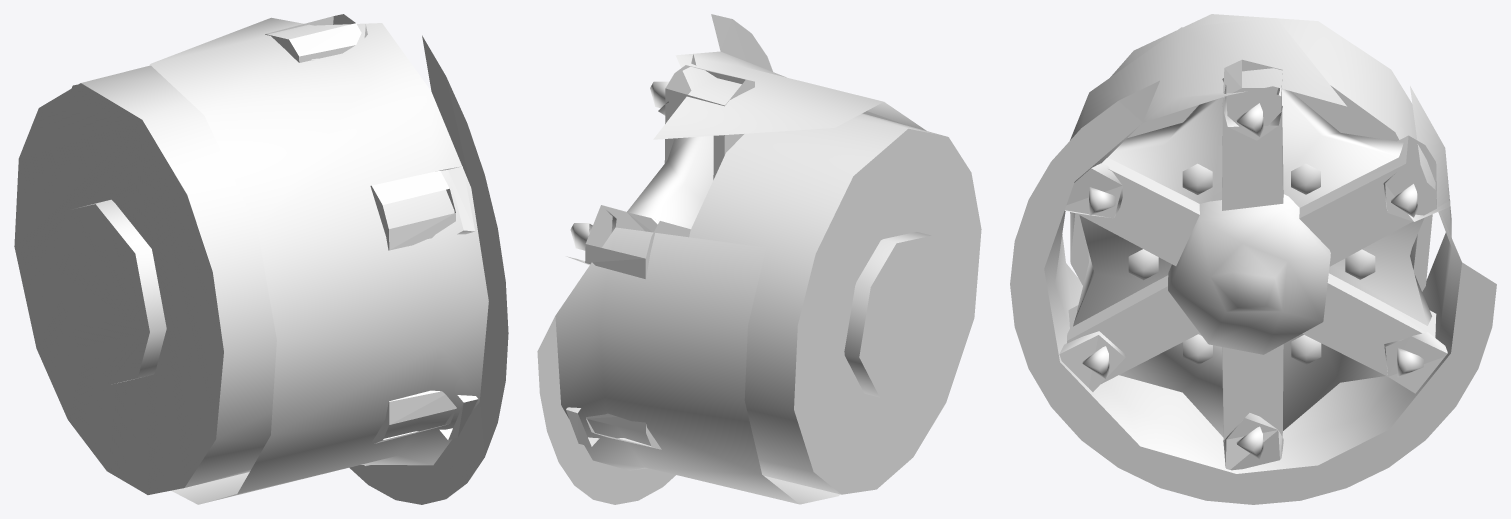
The picture shows the model from 3 angles, left to right: view 1: azimuth 30°, elevation 25°; view 2: azimuth 150°, elevation 25°; view 3: azimuth 270°, elevation 25°; orthographic projection. The views are drawn at different scales.
Bounding box in the file's own units: 0.4103 × 0.6815 × 0.7085.
Materials: 1 (1 with a texture image).
